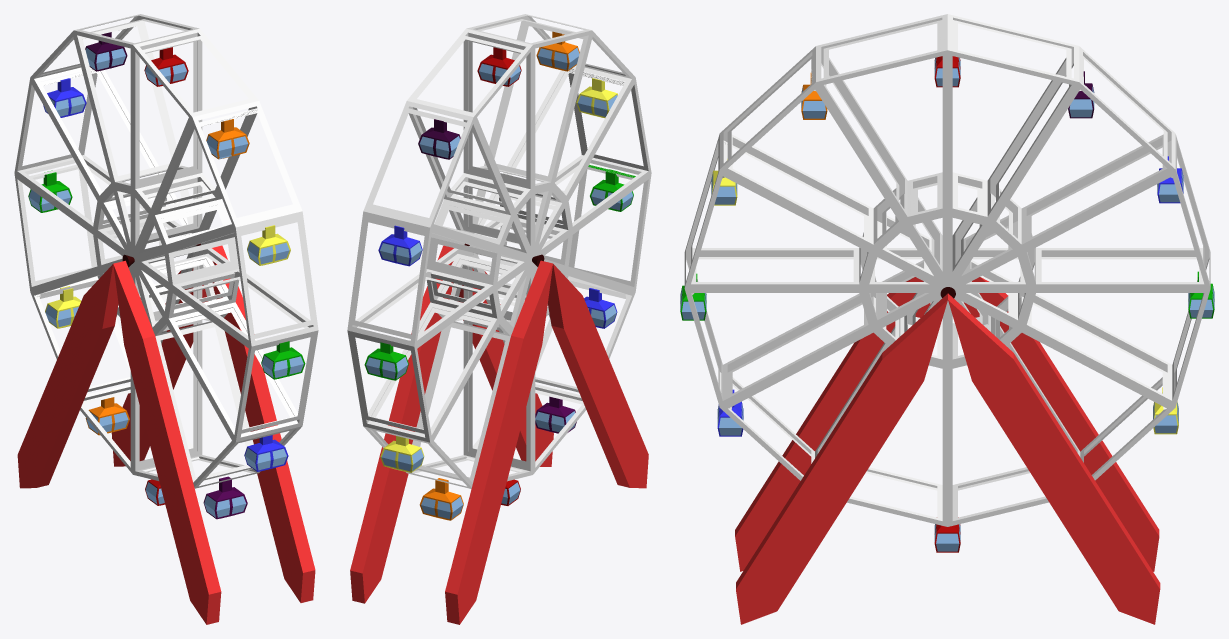
Rendered from ferris_wheel.fbx.
3 renders of one model, left to right at view 1: azimuth 30°, elevation 25°; view 2: azimuth 150°, elevation 25°; view 3: azimuth 270°, elevation 25°, orthographic. The views are drawn at different scales.
Parts seen in each view (by area): view 1: Circle; view 2: Circle; view 3: Circle.
Boxes of the visible parts, <box> form: Circle: <box>14,14,318,624</box>; Circle: <box>347,14,651,624</box>; Circle: <box>680,14,1214,624</box>.
Bounding box in the file's own units: 1784 × 8103 × 6954.
